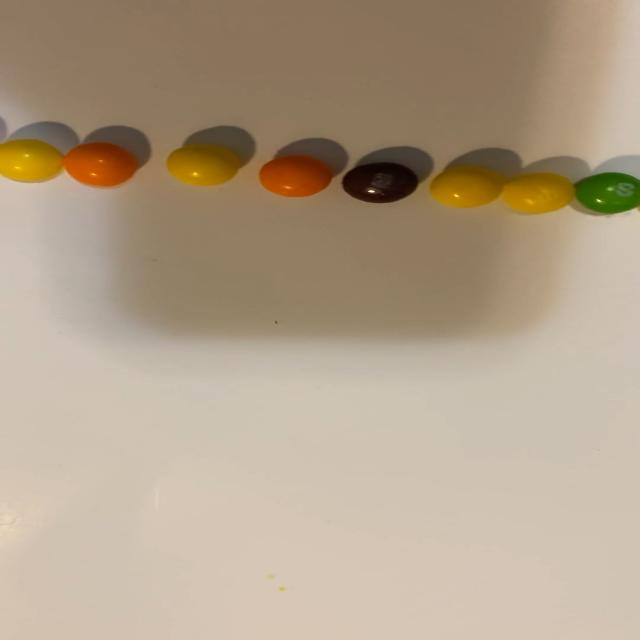smartie: (60, 142, 136, 186), (430, 165, 505, 207), (342, 162, 418, 203), (165, 144, 240, 185), (258, 155, 332, 196), (502, 172, 575, 213), (0, 138, 61, 182), (575, 172, 640, 213)
